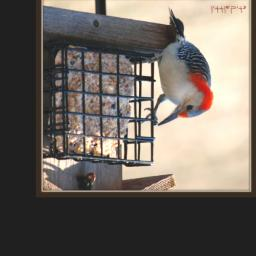Woodpecker: (142, 7, 213, 126)
